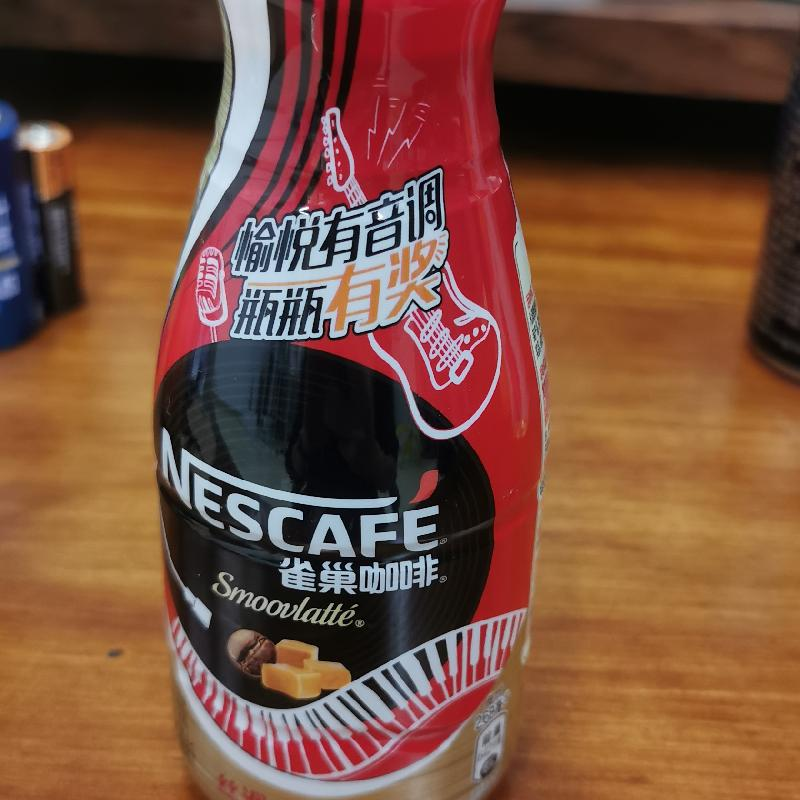bottles: (144, 4, 555, 799)
